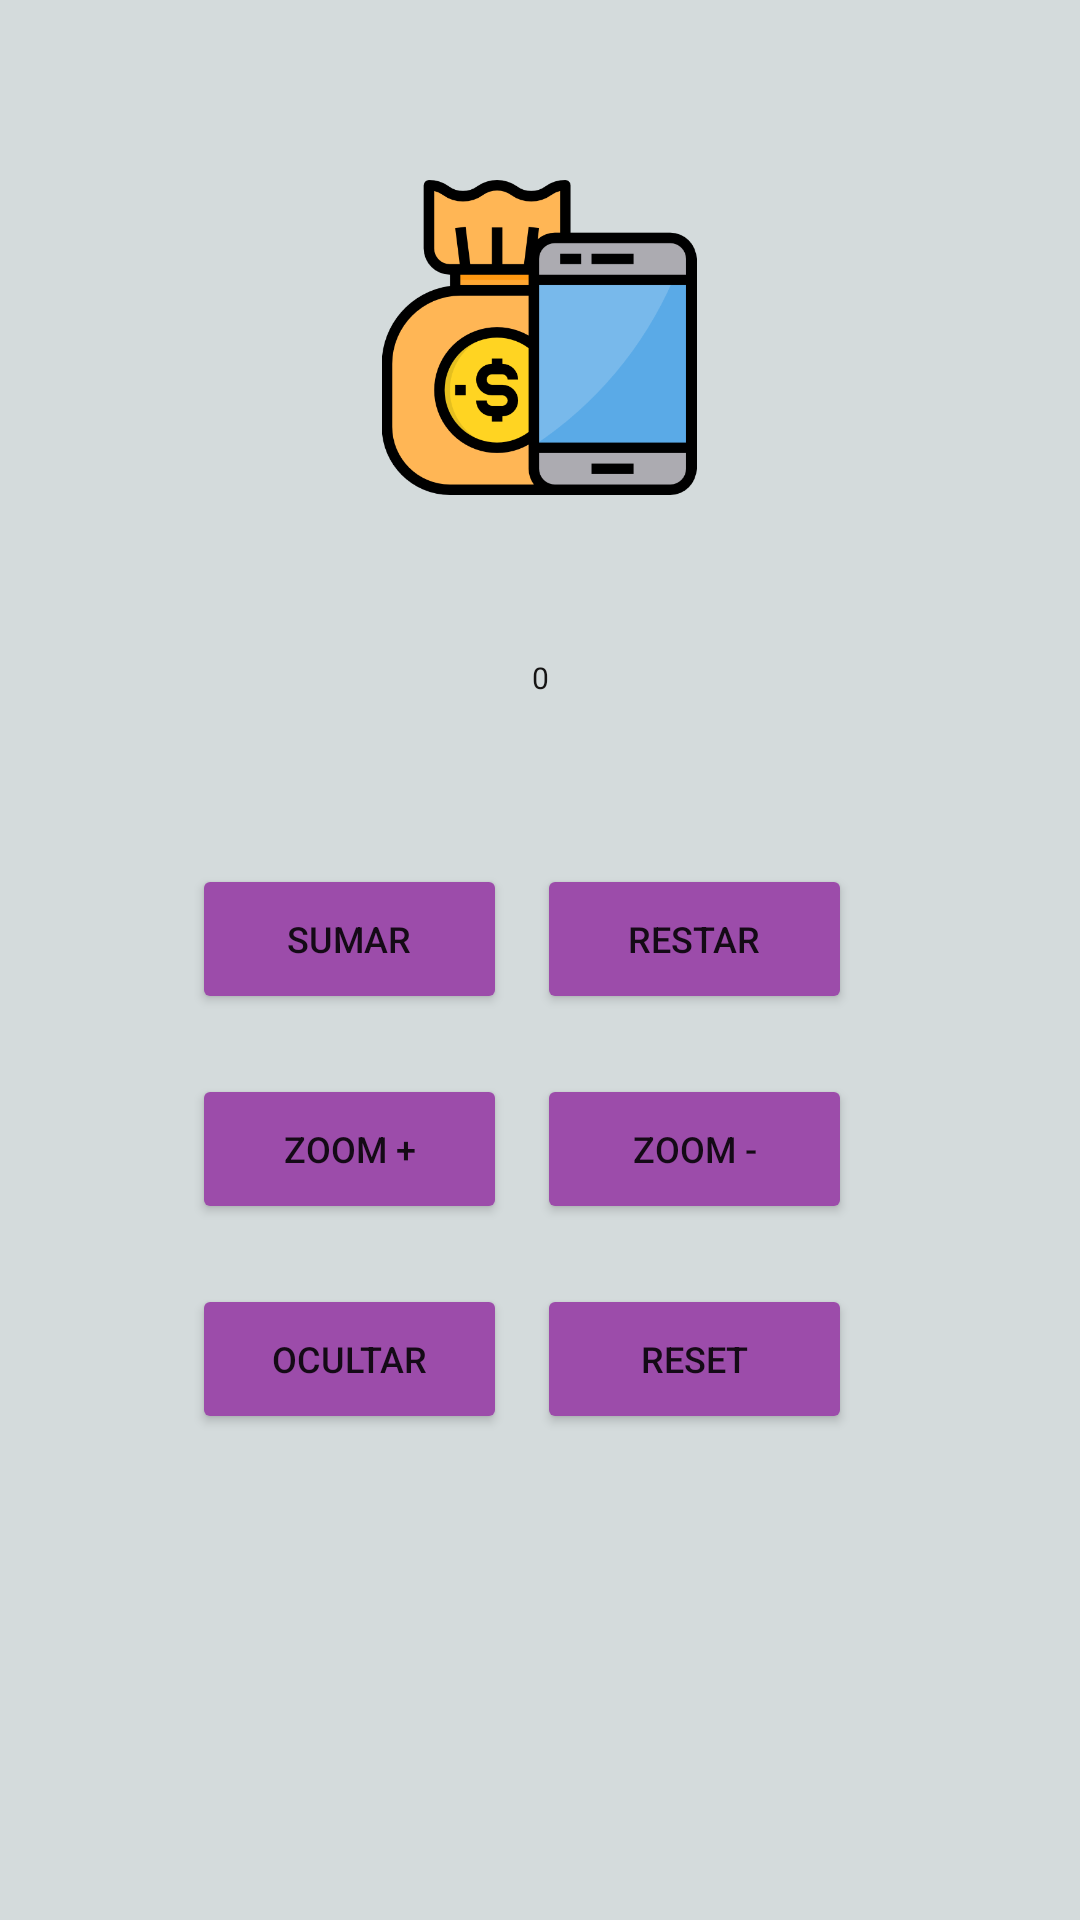

Icon click points for this 1080px x 1920px phone screenshot, format [x,y]:
bolsadinero: [539,337]
